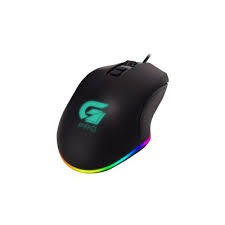mouse: (54, 39, 172, 181)
